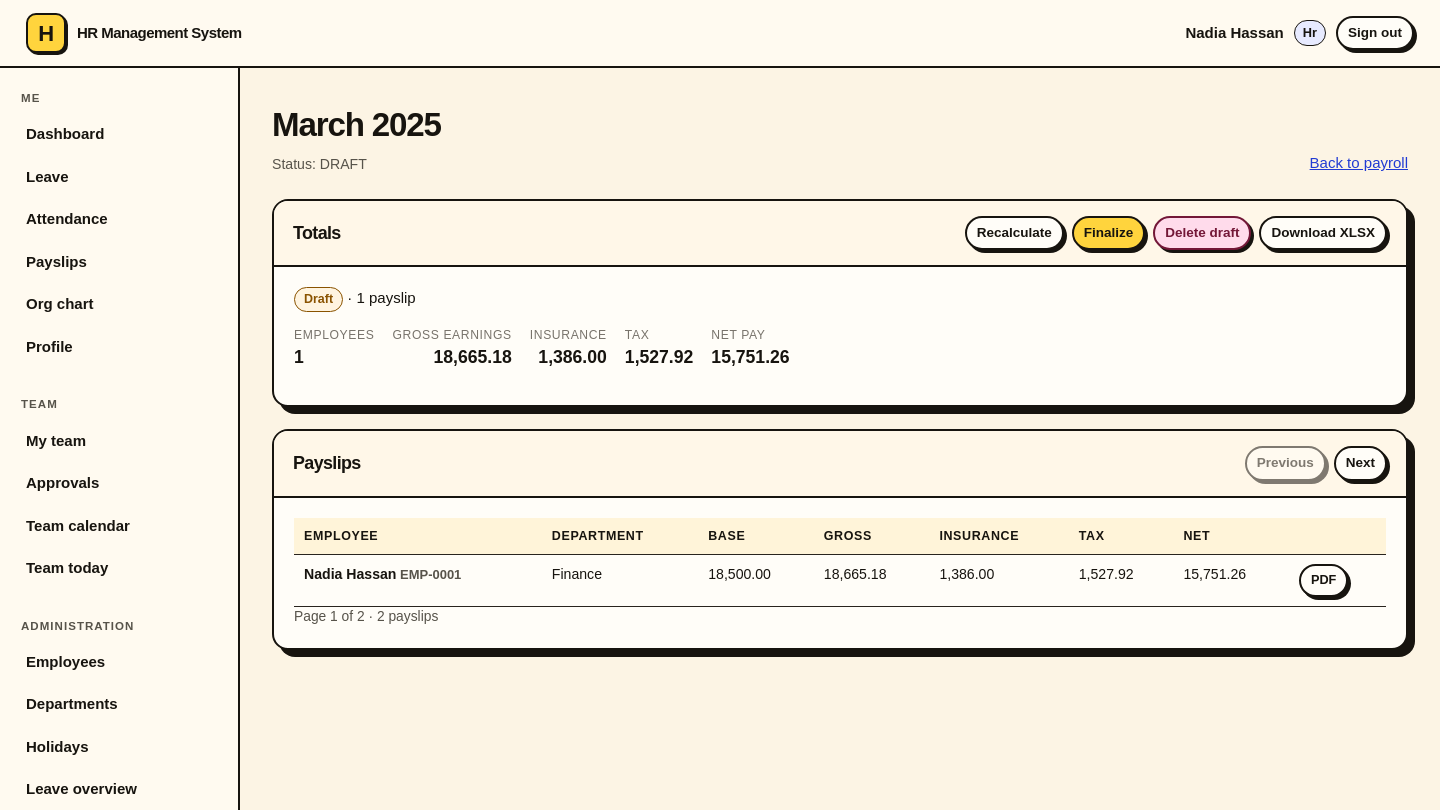
payroll run detail › reloads and resets paged payslips to page 0 after recalculation
The width and height of the screenshot is (1440, 810).
Note: Navigate to page 1
Click the button "Next" at (1360, 464), box [1334, 446, 1387, 481]
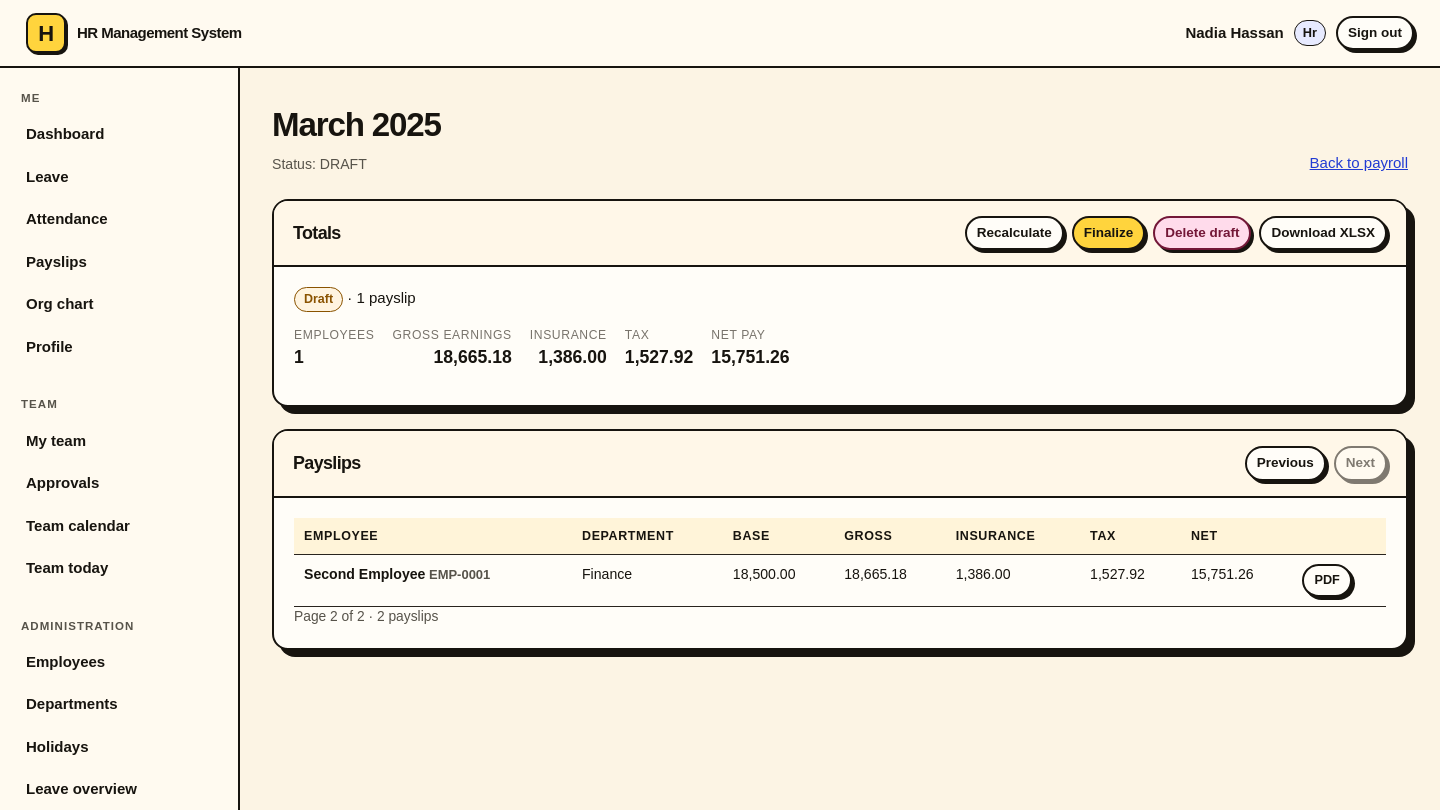
Result: the column heading "Second Employee" is shown at [304, 566, 425, 582]
Note: Trigger recalculation
Click the button "Recalculate" at (1014, 233), box [965, 216, 1064, 250]
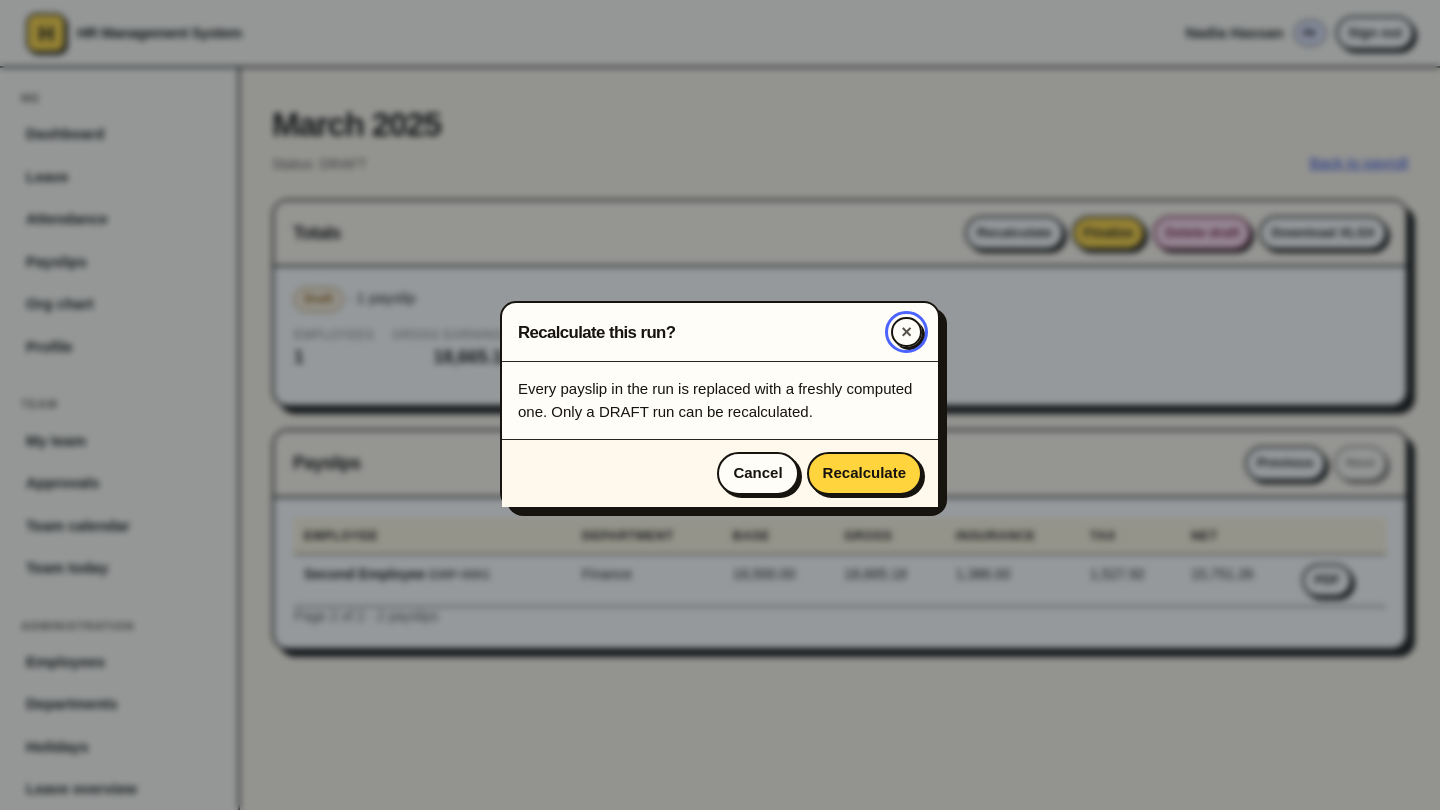
Click the button "Recalculate" at (864, 474), box [807, 452, 922, 495]
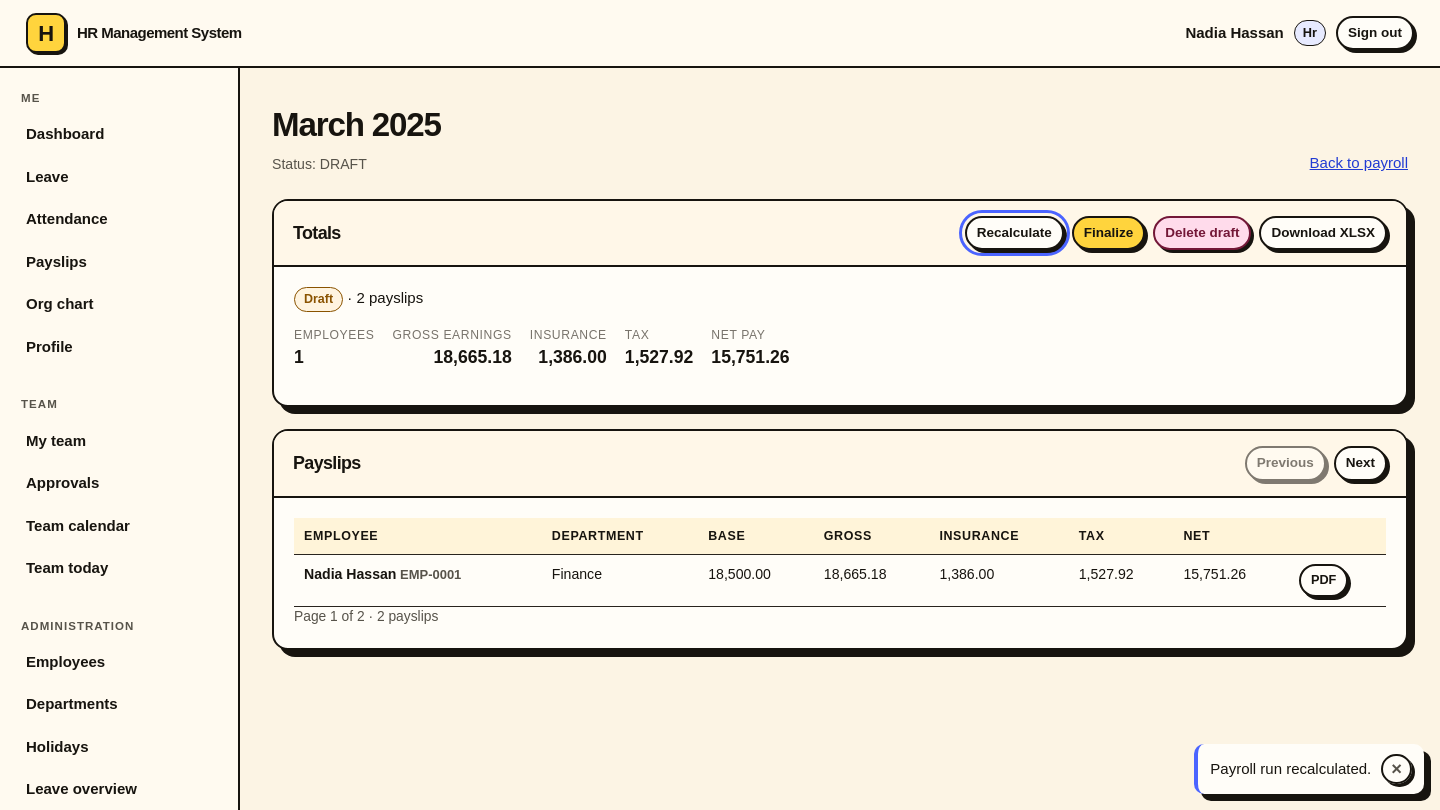
Result: the text "Payroll run recalculated." is shown at [1210, 758, 1371, 780]
Result: the text "Page 1 of 2 · 2 payslips" is shown at [294, 609, 438, 624]
